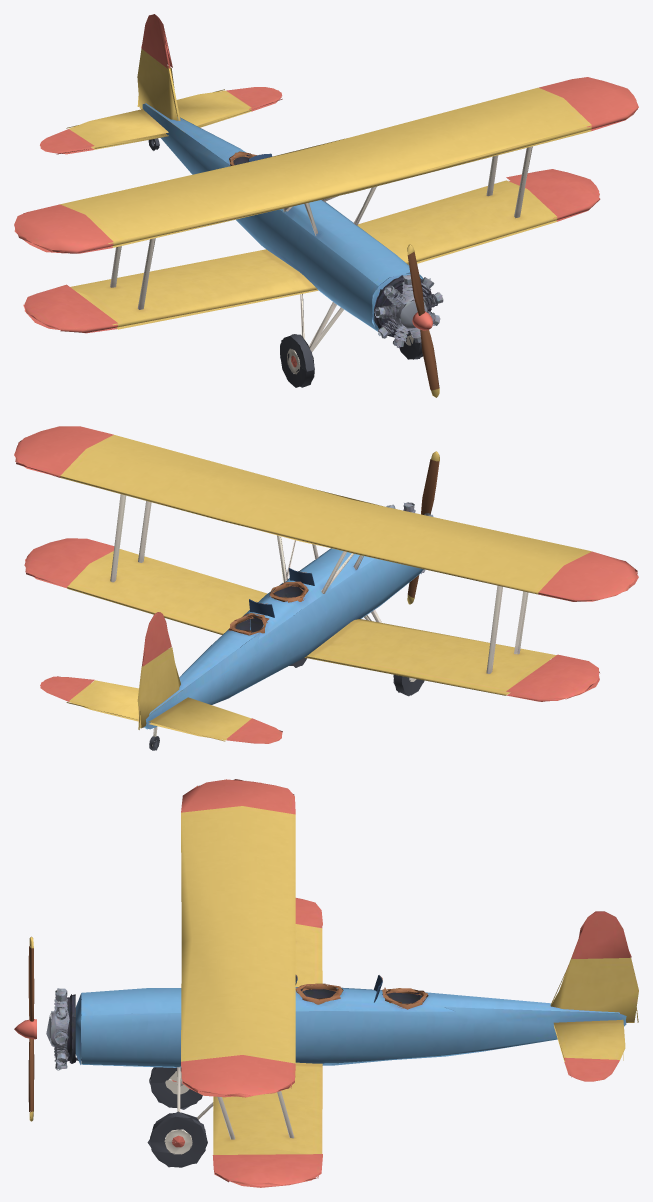
File: AirshowBiplane.glb
3 views of the same model, one above another, from view 1: azimuth 30°, elevation 25°; view 2: azimuth 150°, elevation 25°; view 3: azimuth 270°, elevation 25° (orthographic). The views are drawn at different scales.
Parts seen in each view (by area): view 1: biplane_body, AirframeDetails, Propeller; view 2: biplane_body, AirframeDetails, Propeller; view 3: biplane_body, AirframeDetails, Propeller.
Boxes of the visible parts, x1=… form: biplane_body: x1=14, y1=14, x2=638, y2=360; AirframeDetails: x1=148, y1=138, x2=422, y2=387; Propeller: x1=407, y1=244, x2=439, y2=397; biplane_body: x1=14, y1=426, x2=638, y2=743; AirframeDetails: x1=149, y1=568, x2=424, y2=750; Propeller: x1=407, y1=451, x2=439, y2=604; biplane_body: x1=46, y1=779, x2=638, y2=1187; AirframeDetails: x1=147, y1=975, x2=382, y2=1167; Propeller: x1=14, y1=936, x2=36, y2=1121.
Bounding box in the file's own units: 9.85 × 3.28 × 8.21.
Materials: 3 (1 with a texture image).
